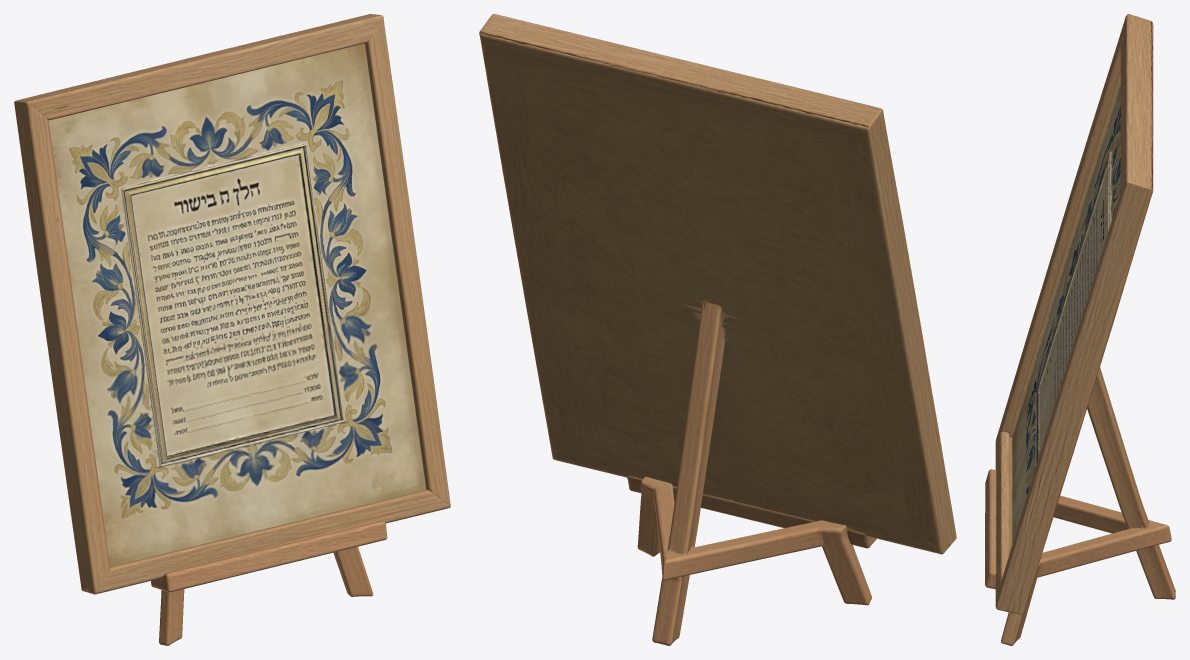
File: ketubah.glb
3 views of the same model, side by side, from view 1: azimuth 30°, elevation 25°; view 2: azimuth 150°, elevation 25°; view 3: azimuth 270°, elevation 25° (orthographic). The views are drawn at different scales.
Visible parts, largest first — view 1: tripo_node_ecaf272b-e4d7-476a-926c-ff013239b2d1; view 2: tripo_node_ecaf272b-e4d7-476a-926c-ff013239b2d1; view 3: tripo_node_ecaf272b-e4d7-476a-926c-ff013239b2d1.
Part boxes in pixels (x1=…): tripo_node_ecaf272b-e4d7-476a-926c-ff013239b2d1: x1=14, y1=14, x2=450, y2=645; tripo_node_ecaf272b-e4d7-476a-926c-ff013239b2d1: x1=479, y1=14, x2=956, y2=645; tripo_node_ecaf272b-e4d7-476a-926c-ff013239b2d1: x1=985, y1=14, x2=1175, y2=645.
Size of the model in its own units: 0.7098 by 0.9799 by 0.3393.
Materials: 1 (1 with a texture image).
